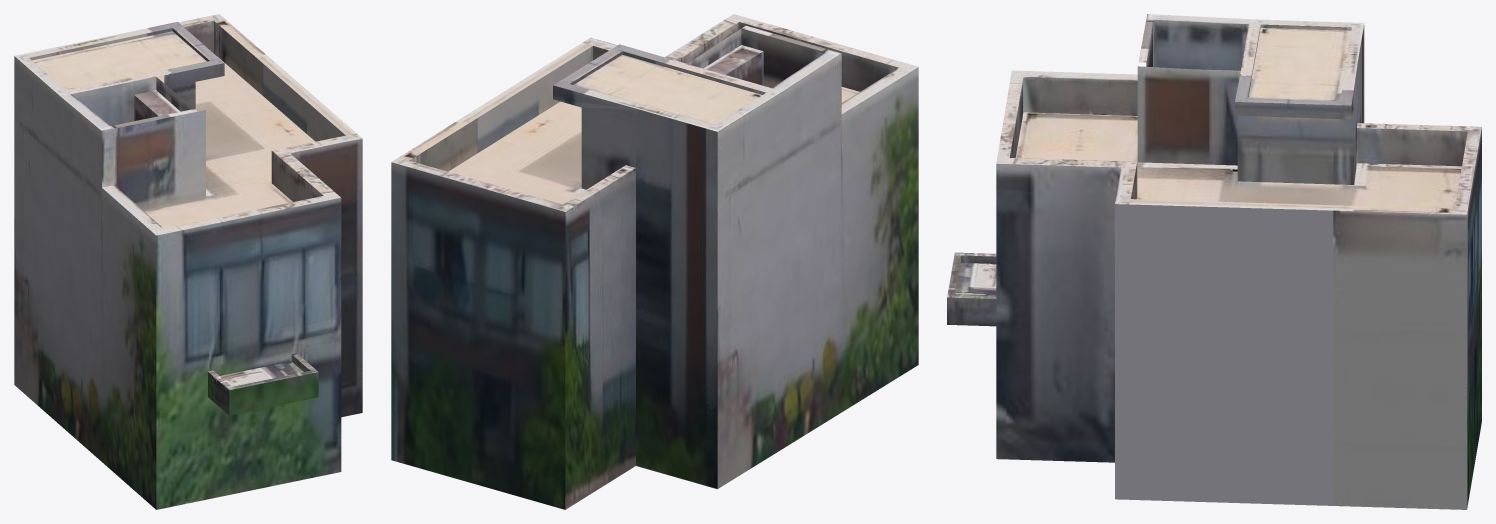
3 renders of one model, left to right at view 1: azimuth 30°, elevation 25°; view 2: azimuth 150°, elevation 25°; view 3: azimuth 270°, elevation 25°, orthographic. The views are drawn at different scales.
Parts seen in each view (by area): view 1: B282984038701062A0; view 2: B282984038701062A0; view 3: B282984038701062A0.
Part boxes in pixels (<box>): B282984038701062A0: <box>14,14,362,509</box>; B282984038701062A0: <box>391,14,918,509</box>; B282984038701062A0: <box>947,14,1481,509</box>.
Bounding box in the file's own units: 9.6 × 11.06 × 15.05.
1 material, 1 textured.
